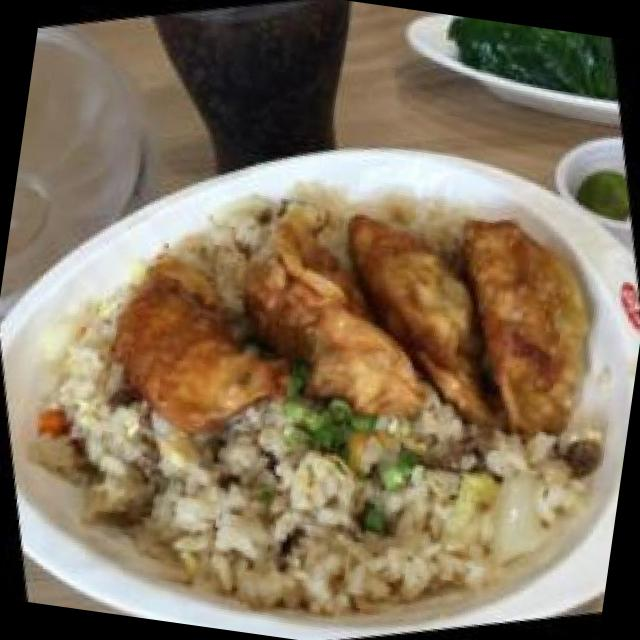fried_dumplings: (82, 144, 636, 532)
